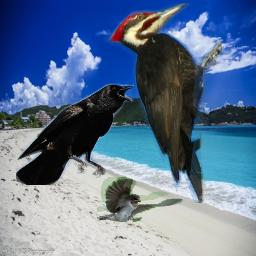Crow: (16, 83, 134, 185)
Swallow: (97, 177, 183, 222)
Woodpecker: (104, 3, 222, 203)
